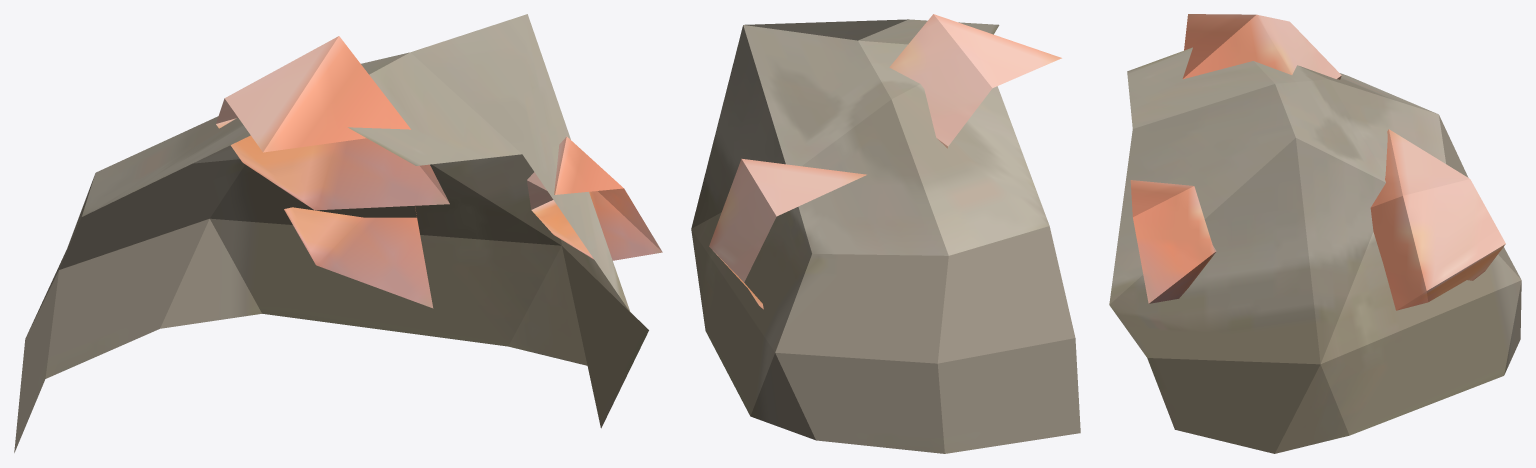
Rendered from RockSmallGypsum.fbx.
3 renders of one model, left to right at view 1: azimuth 30°, elevation 25°; view 2: azimuth 150°, elevation 25°; view 3: azimuth 270°, elevation 25°, orthographic. The views are drawn at different scales.
Visible parts, largest first — view 1: RockMesh, Resource1 (1), Resource1, Resource2; view 2: RockMesh, Resource1 (1), Resource1; view 3: RockMesh, Resource1, Resource2, Resource1 (1).
Boxes of the visible parts, box(x1,y1,x2,y2) form: RockMesh: box(14, 14, 648, 452); Resource1 (1): box(216, 36, 449, 210); Resource1: box(284, 207, 433, 308); Resource2: box(527, 136, 662, 260); RockMesh: box(691, 19, 1080, 453); Resource1 (1): box(889, 14, 1061, 148); Resource1: box(709, 158, 866, 309); RockMesh: box(1109, 47, 1521, 453); Resource1: box(1370, 129, 1505, 310); Resource2: box(1130, 180, 1216, 303); Resource1 (1): box(1182, 14, 1341, 79).
Size of what is drawn, in the model's own units: 1.06 by 0.7872 by 0.8882.
